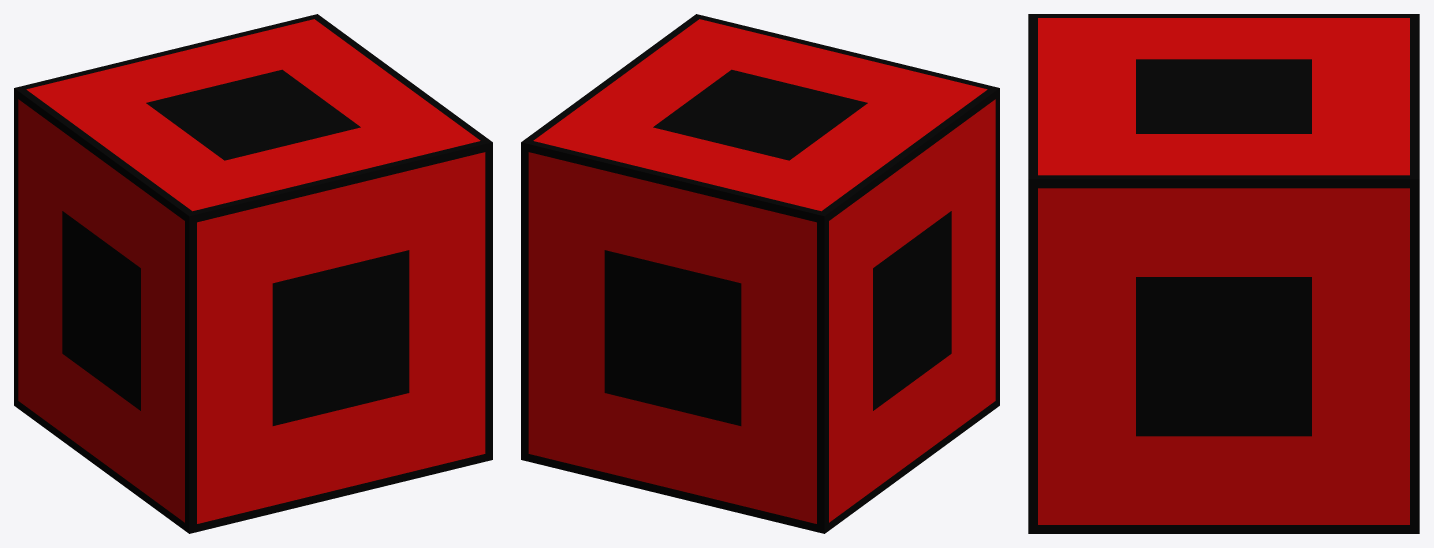
The model's file is Beat.fbx.
The picture shows the model from 3 angles, left to right: view 1: azimuth 30°, elevation 25°; view 2: azimuth 150°, elevation 25°; view 3: azimuth 270°, elevation 25°; orthographic projection. The views are drawn at different scales.
Parts seen in each view (by area): view 1: Beat; view 2: Beat; view 3: Beat.
Boxes of the visible parts, x1=… form: Beat: x1=14, y1=14, x2=492, y2=533; Beat: x1=521, y1=14, x2=999, y2=533; Beat: x1=1028, y1=14, x2=1419, y2=533.
Bounding box in the file's own units: 1 × 1 × 1.
